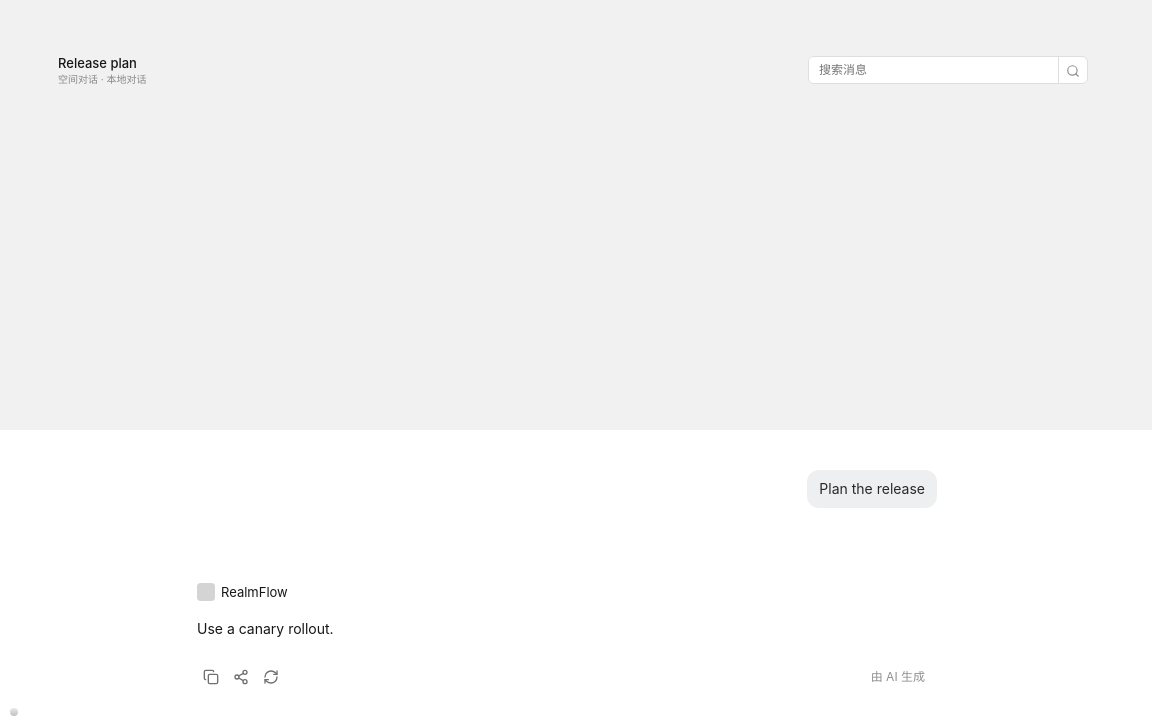
Test: conversation image sharing › supports selecting all messages and closes on pointer press
(page scrolled)
Click the button named "分享回答" at (241, 677), box [227,663,255,691]
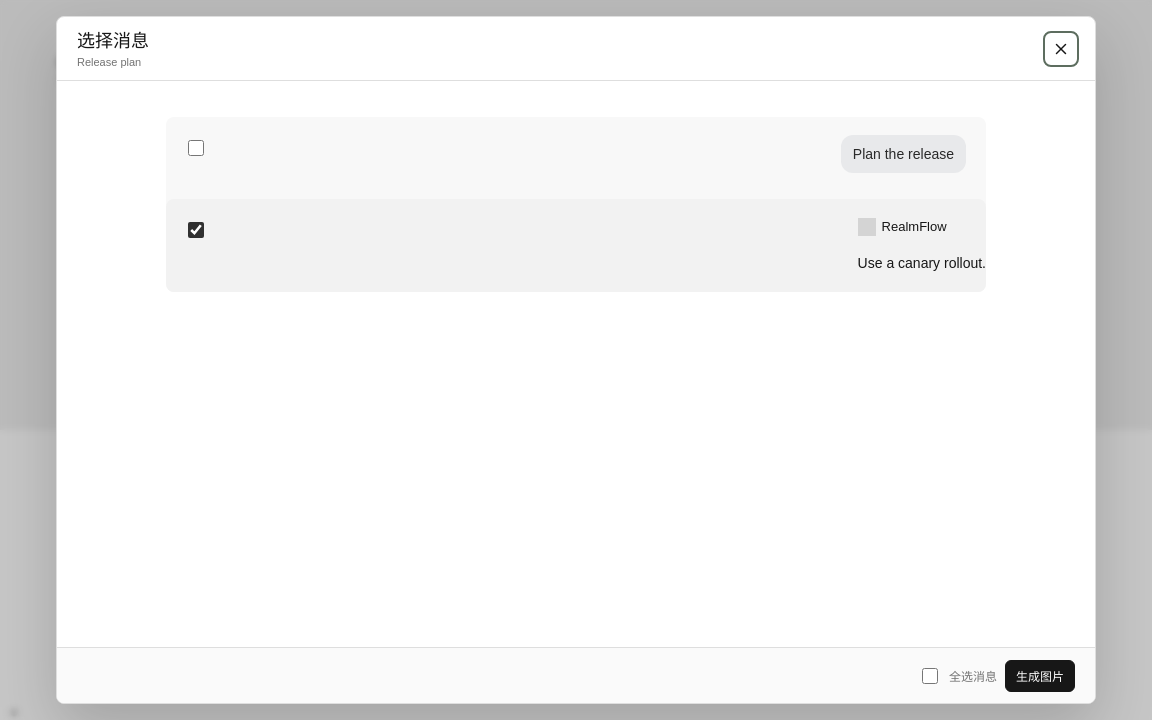
Click the checkbox labelled "全选消息" at (930, 676), box [922,668,938,684]
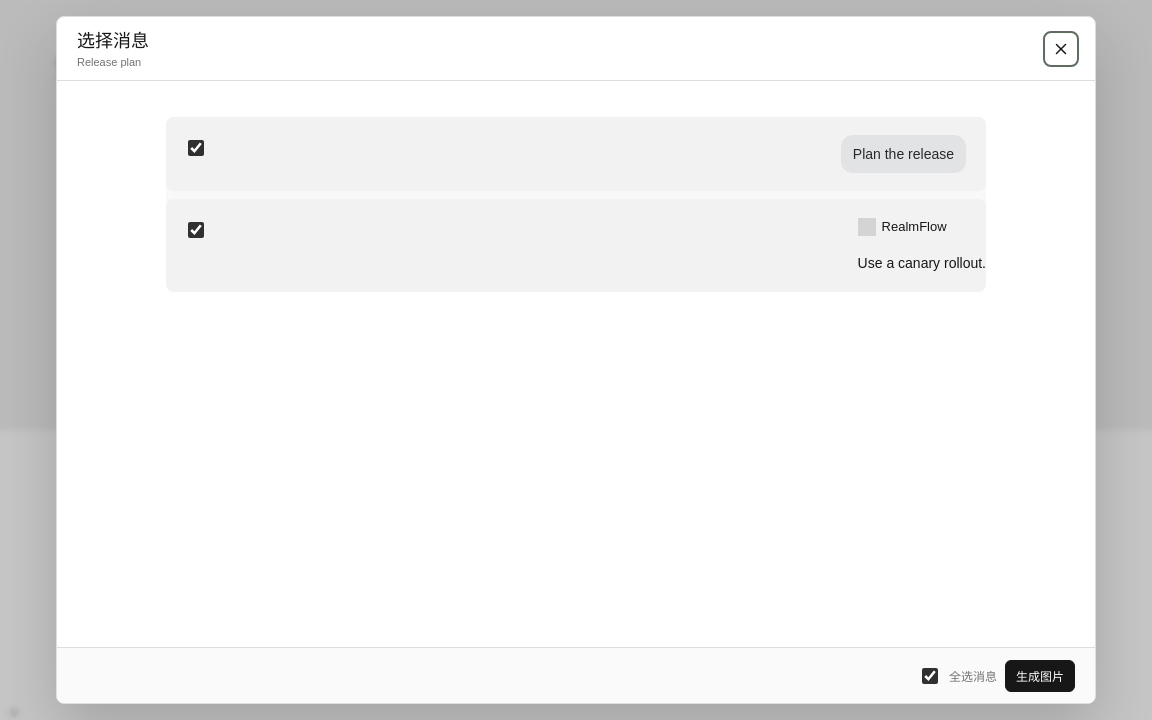
Expected: the checkbox named "选择消息：Plan the release" is checked, [188,140,204,156]
Press the mouse on the button named "取消分享" at (1061, 49), box [1047,35,1075,63]
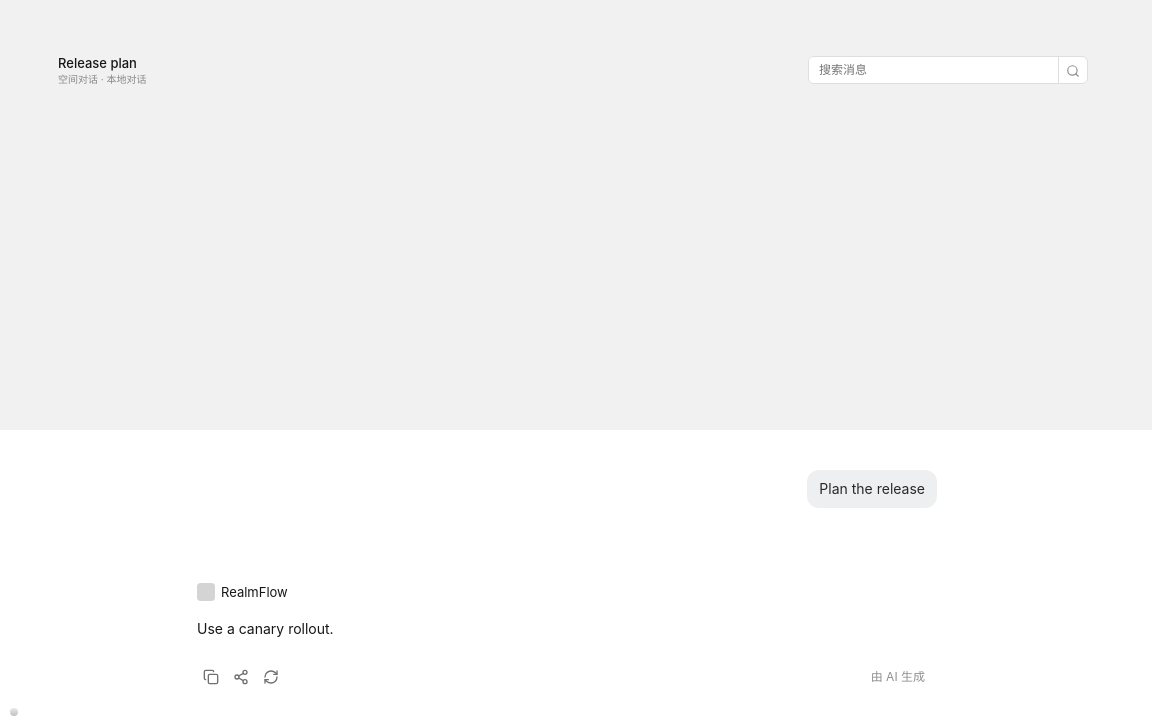
Expected: the dialog "对话分享" is gone
